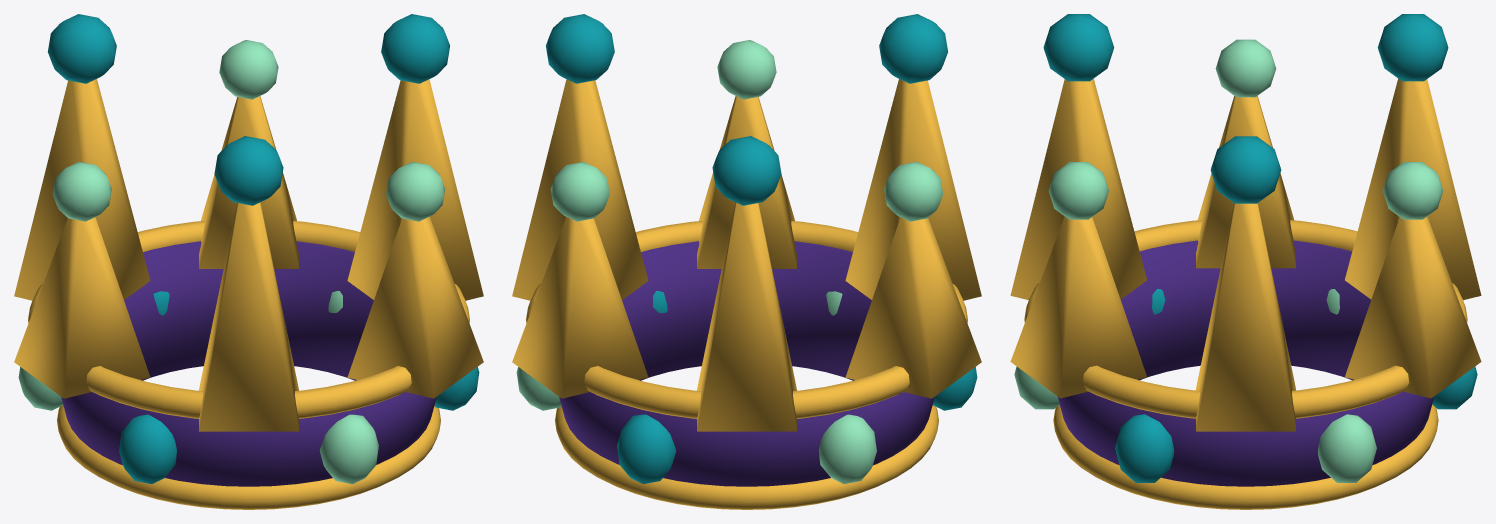
File: crown.glb
3 renders of one model, left to right at view 1: azimuth 30°, elevation 25°; view 2: azimuth 150°, elevation 25°; view 3: azimuth 270°, elevation 25°, orthographic.
Parts seen in each view (by area): view 1: band, Cone.004, Cone.005, Cone.003, Cone, Cone.002, Torus.001, Torus, Cone.001, Icosphere, Icosphere.002, Icosphere.004 (+7 smaller); view 2: band, Cone.002, Cone.001, Cone.003, Cone, Cone.004, Torus.001, Torus, Cone.005, Icosphere, Icosphere.004, Icosphere.002 (+7 smaller); view 3: band, Cone, Cone.001, Cone.005, Cone.002, Cone.004, Torus.001, Torus, Cone.003, Icosphere, Icosphere.002, Icosphere.004 (+7 smaller).
Boxes of the visible parts, box(x1,y1,x2,y2) form: band: box(61, 241, 436, 486); Cone.004: box(199, 202, 298, 431); Cone.005: box(347, 217, 483, 398); Cone.003: box(14, 217, 150, 398); Cone: box(347, 79, 483, 300); Cone.002: box(14, 79, 150, 300); Torus.001: box(28, 221, 469, 418); Torus: box(57, 405, 440, 509); Cone.001: box(199, 96, 298, 268); Icosphere: box(381, 14, 449, 83); Icosphere.002: box(48, 14, 116, 83); Icosphere.004: box(214, 136, 283, 205); band: box(559, 241, 934, 486); Cone.002: box(697, 202, 796, 431); Cone.001: box(512, 217, 648, 398); Cone.003: box(845, 217, 981, 398); Cone: box(512, 79, 648, 300); Cone.004: box(845, 79, 981, 300); Torus.001: box(526, 221, 967, 418); Torus: box(555, 405, 938, 509); Cone.005: box(697, 96, 796, 268); Icosphere: box(546, 14, 614, 83); Icosphere.004: box(879, 14, 947, 83); Icosphere.002: box(712, 136, 781, 205); band: box(1058, 240, 1433, 486); Cone: box(1196, 203, 1295, 431); Cone.001: box(1345, 216, 1481, 398); Cone.005: box(1010, 216, 1146, 398); Cone.002: box(1345, 78, 1481, 300); Cone.004: box(1010, 78, 1146, 300); Torus.001: box(1024, 220, 1467, 418); Torus: box(1053, 404, 1438, 509); Cone.003: box(1196, 96, 1295, 268); Icosphere: box(1210, 136, 1281, 203); Icosphere.002: box(1377, 14, 1448, 81); Icosphere.004: box(1043, 14, 1114, 81).
Size of the model in its own units: 0.4803 by 0.4103 by 0.4654.
